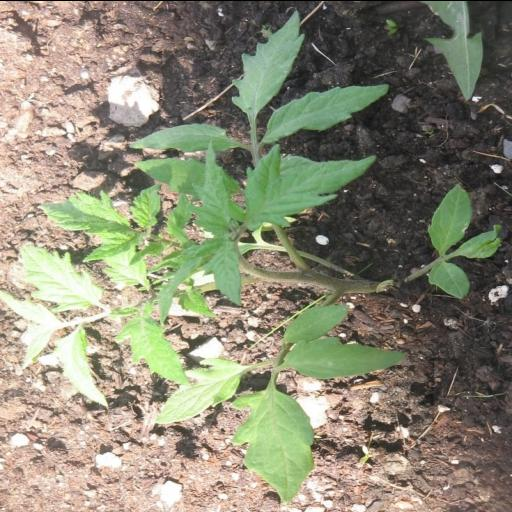Healthy: (242, 144, 378, 228), (230, 390, 315, 504), (230, 8, 305, 113), (261, 82, 391, 142), (154, 356, 244, 424), (114, 314, 196, 388), (282, 336, 408, 378), (184, 140, 236, 238), (133, 156, 239, 196), (426, 183, 474, 251), (128, 122, 242, 150), (202, 239, 244, 306), (281, 303, 351, 343), (427, 260, 471, 298), (454, 223, 502, 257)
